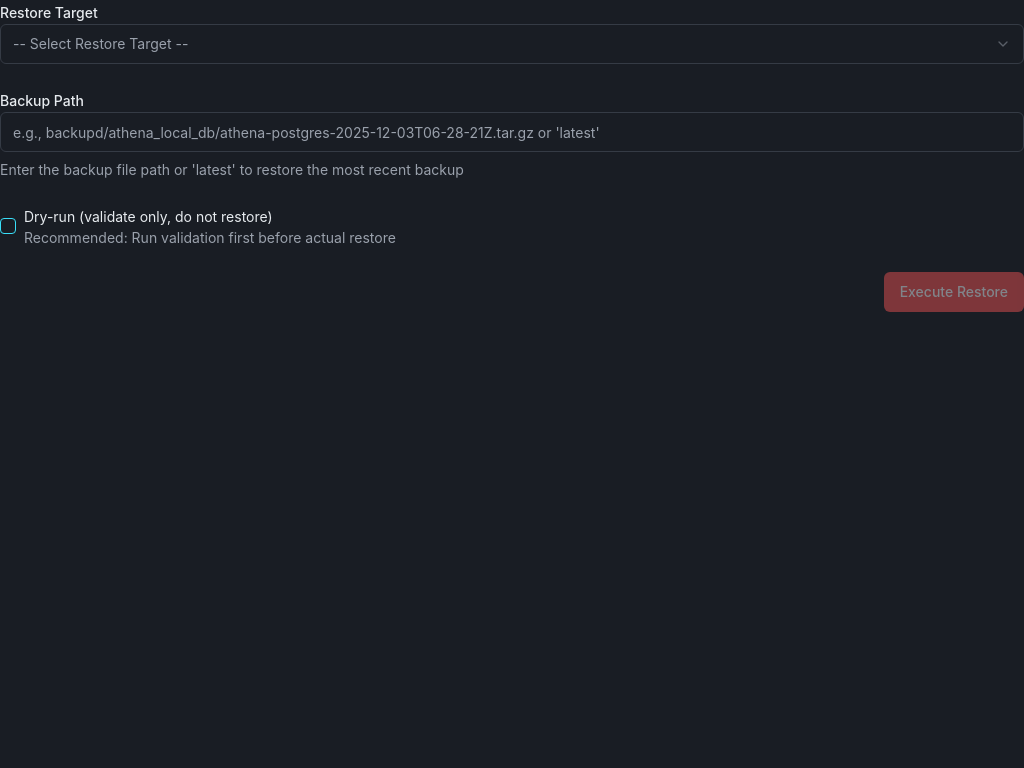
Scenario: RestoreForm Component › shows confirmation dialog for non-dry-run restore
// Select target
Click the dropdown labelled "-- Select Restore Target --" at (101, 44), box [0, 24, 1023, 64]
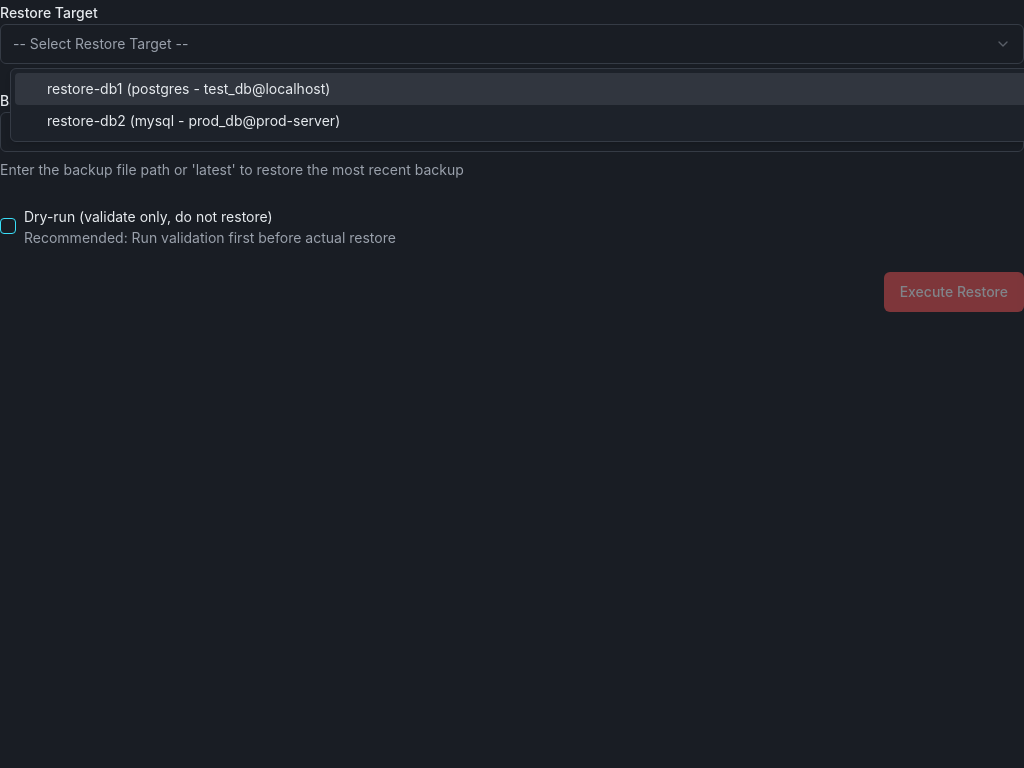
Click the option "restore-db1 (postgres - test_db@localhost)" at (85, 88), box [15, 73, 1023, 105]
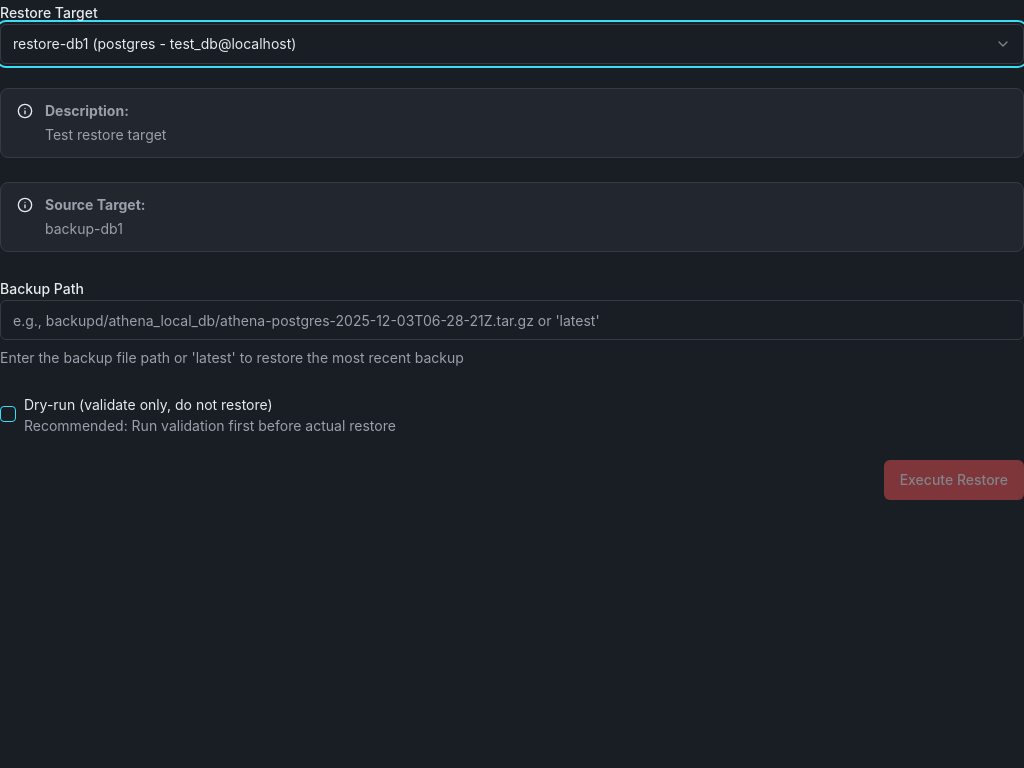
// Enter backup path
Type "/backups/test.sql" into the dropdown labelled "Backup Path" at (512, 320), box [0, 300, 1023, 340]
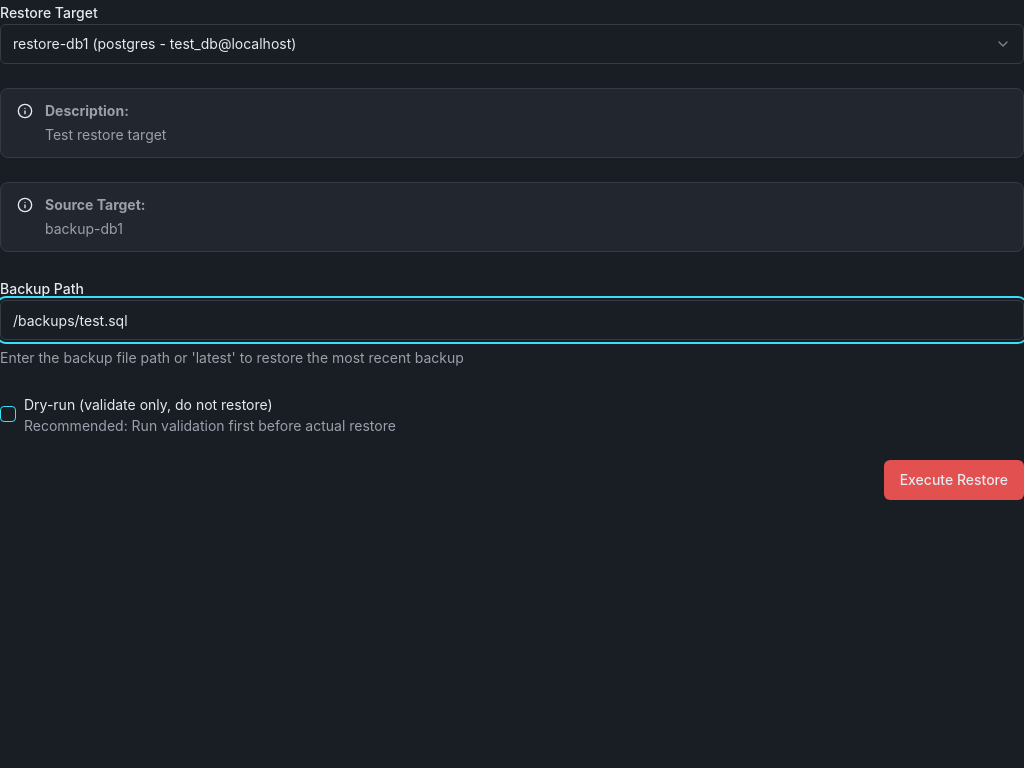
// Dry-run is off by default, submit directly
Click the button "Execute Restore" at (954, 480), box [884, 460, 1023, 500]
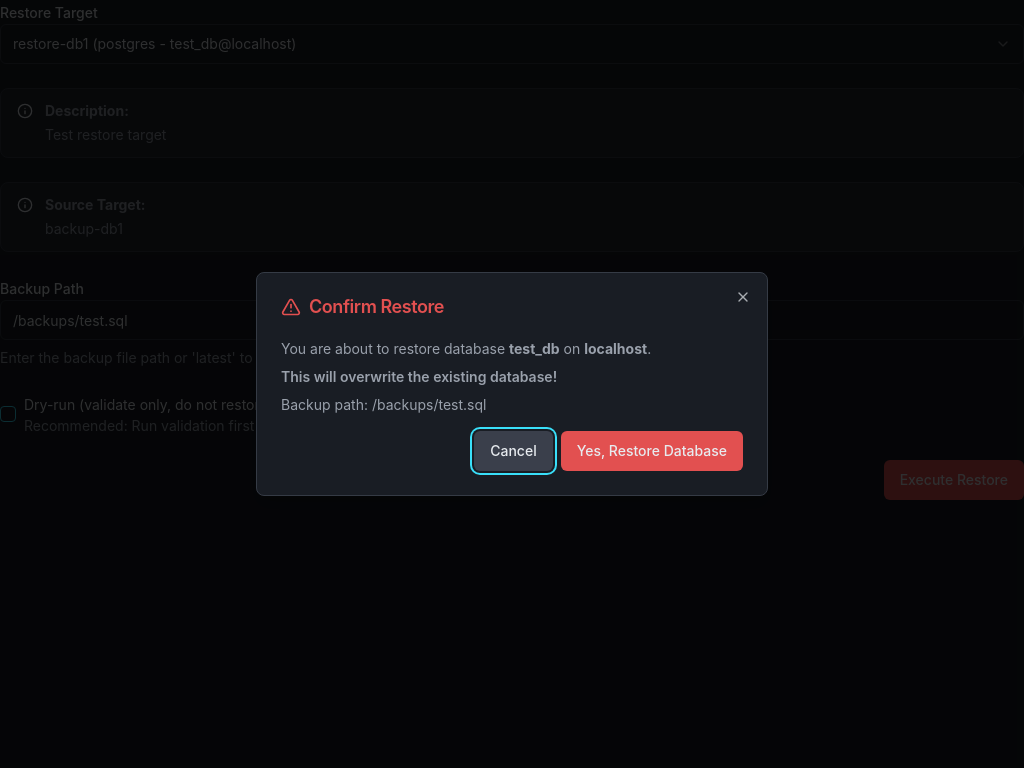
Check: the heading "Confirm Restore" is shown, box [281, 296, 444, 317]
Check: the text "This will overwrite the existing database!" is shown, box [281, 368, 557, 385]
